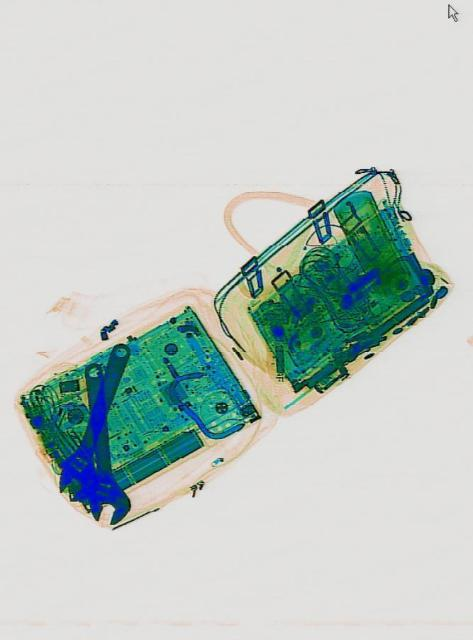Wrench: (50, 334, 144, 510), (69, 360, 133, 528)
